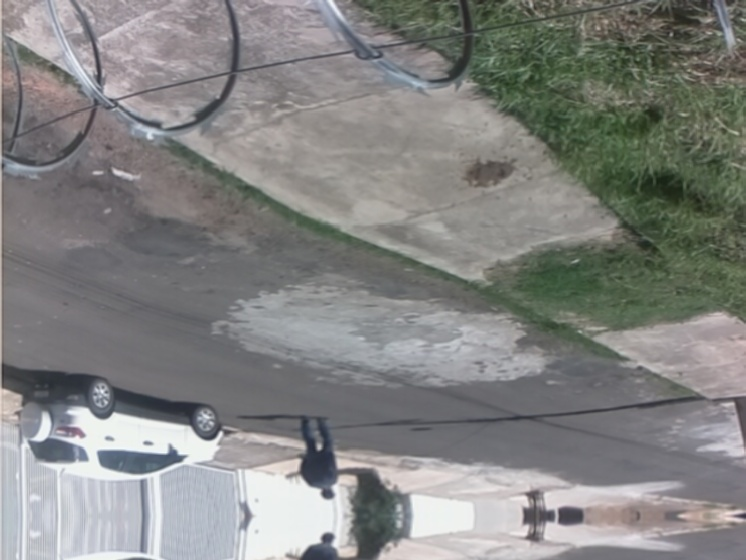person: (295, 416, 342, 501)
